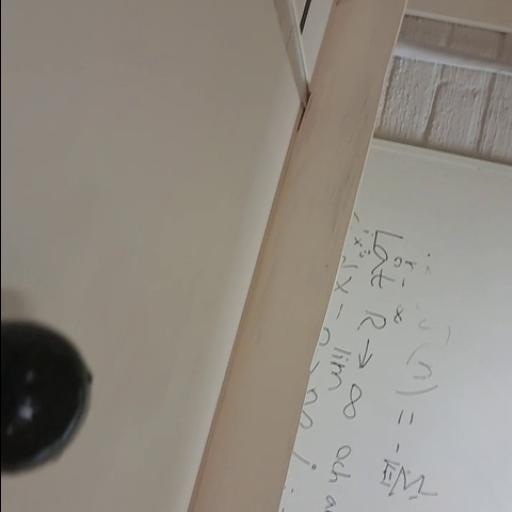dead: (0, 321, 91, 473)
